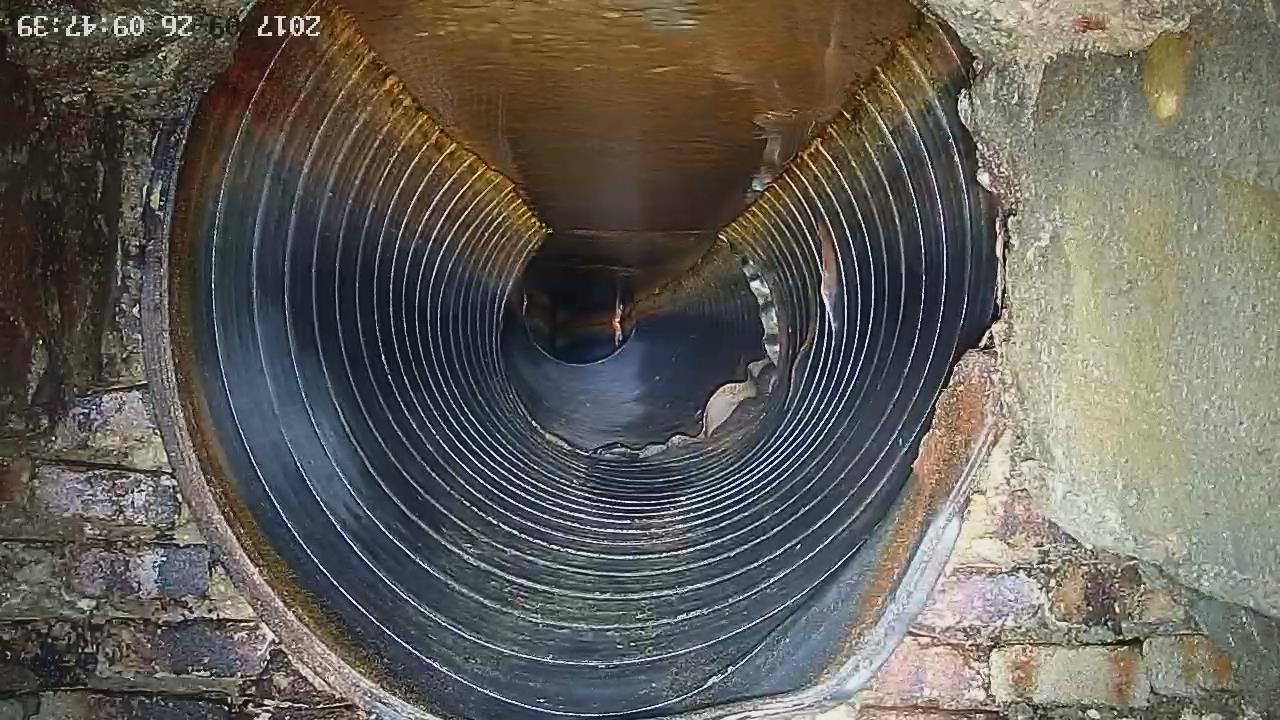JKCL: (501, 229, 790, 467)
